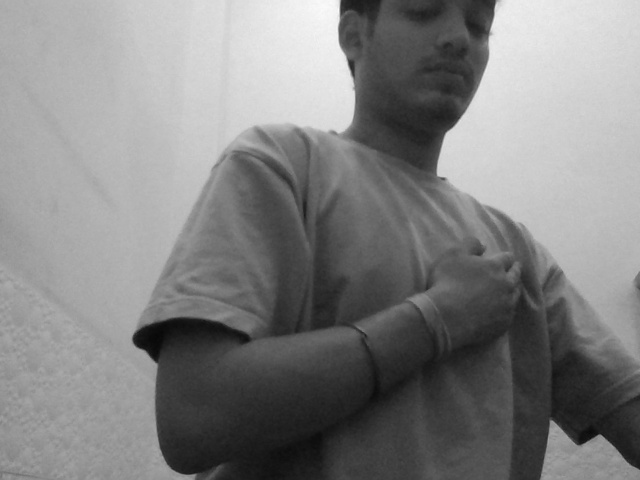Sorry: (404, 226, 553, 367)
